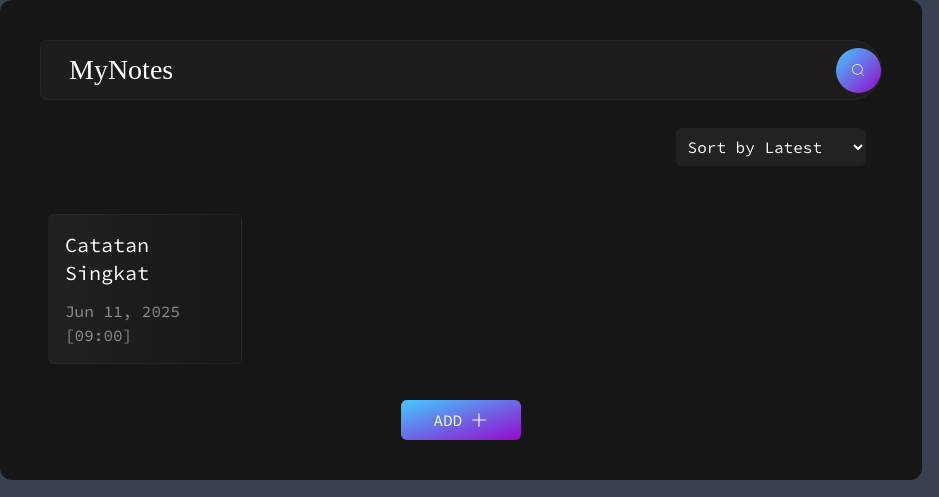
📓 Notes Component › menampilkan pesan jika tidak ada catatan cocok
The width and height of the screenshot is (939, 497).
Click the button: (858,70) [836,48,881,92]
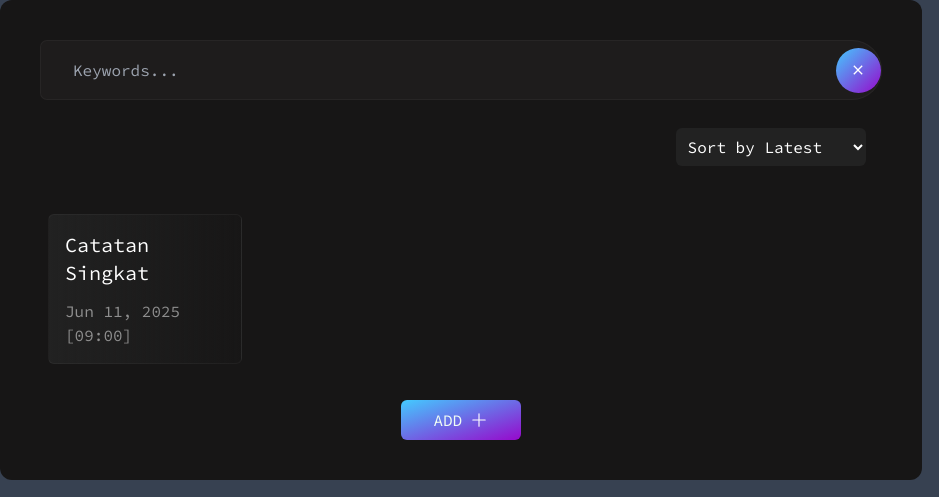
In the field with placeholder "Keywords...": (298,70) [49,47,548,93], type "ga ada"
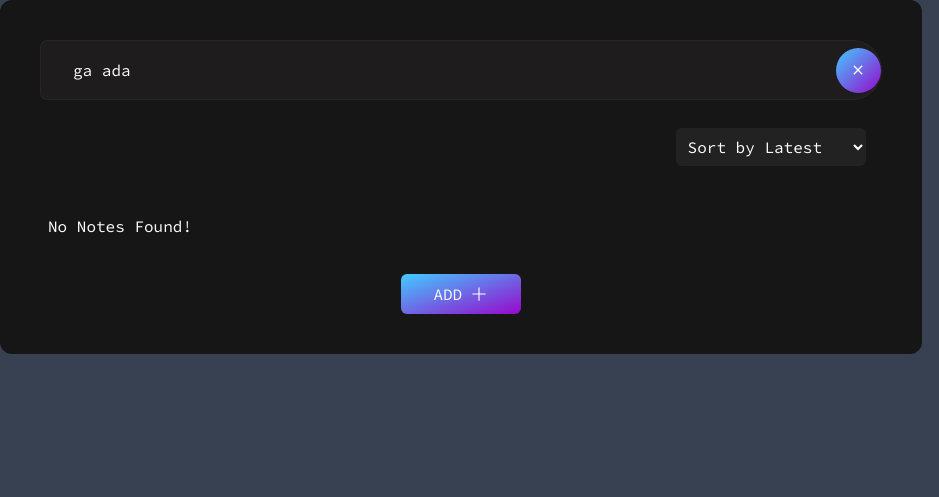
Now the text "No Notes Found!" is shown, box [48,216,192,236]
